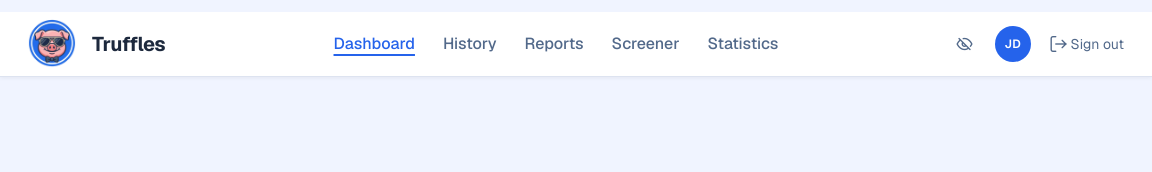
it: TopNav privacy toggle › hides values again on sign-out
The width and height of the screenshot is (1152, 172).
Click the button named "Show values" at (965, 44), box [947,26,983,62]
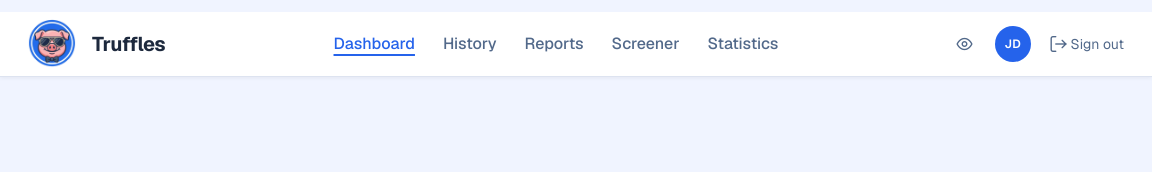
Expected: the button named "Hide values" is shown, [947,26,983,62]
Click the button "Sign out" at (1087, 44), box [1043,26,1132,62]
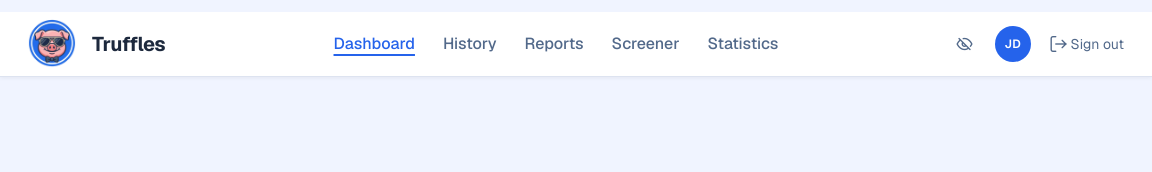
Expected: the button named "Show values" is shown, [947,26,983,62]
